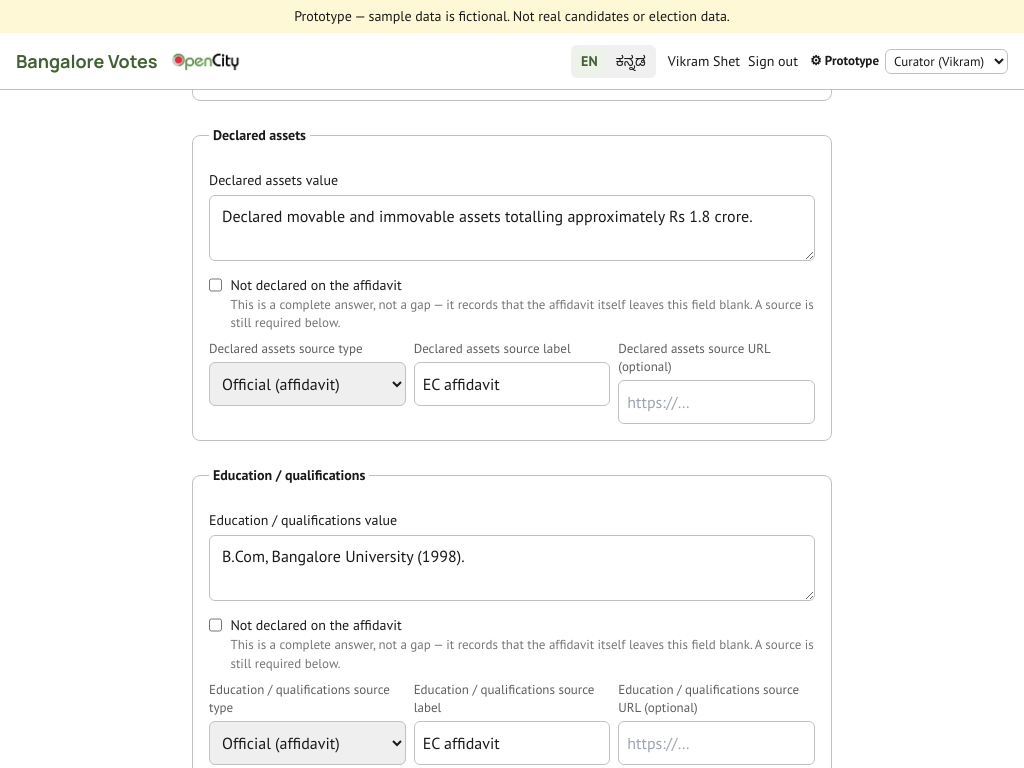
Test: save is refused if a field is cleared of its source label — every field must stay sourced
The image size is (1024, 768).
(page scrolled)
Step 1. Clear the field labelled "Declared assets source label" → (512, 384), box [414,362,610,406]
(page scrolled)
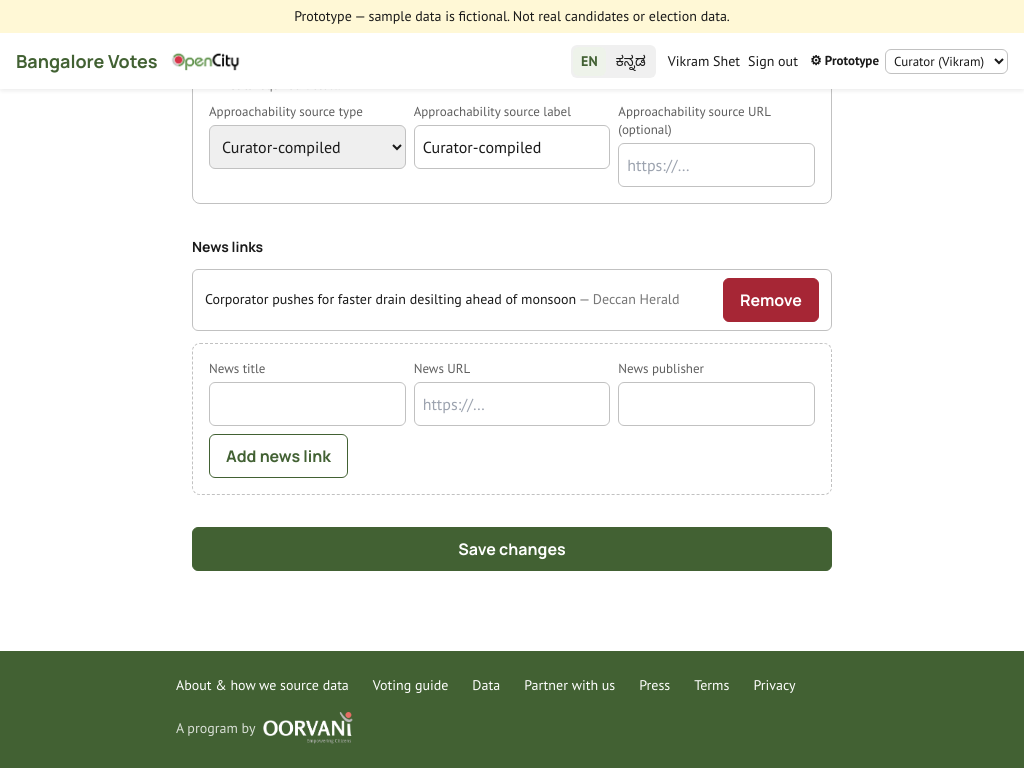
Step 2. Click the button "Save changes" → (512, 549), box [192,527,832,571]
(page scrolled)
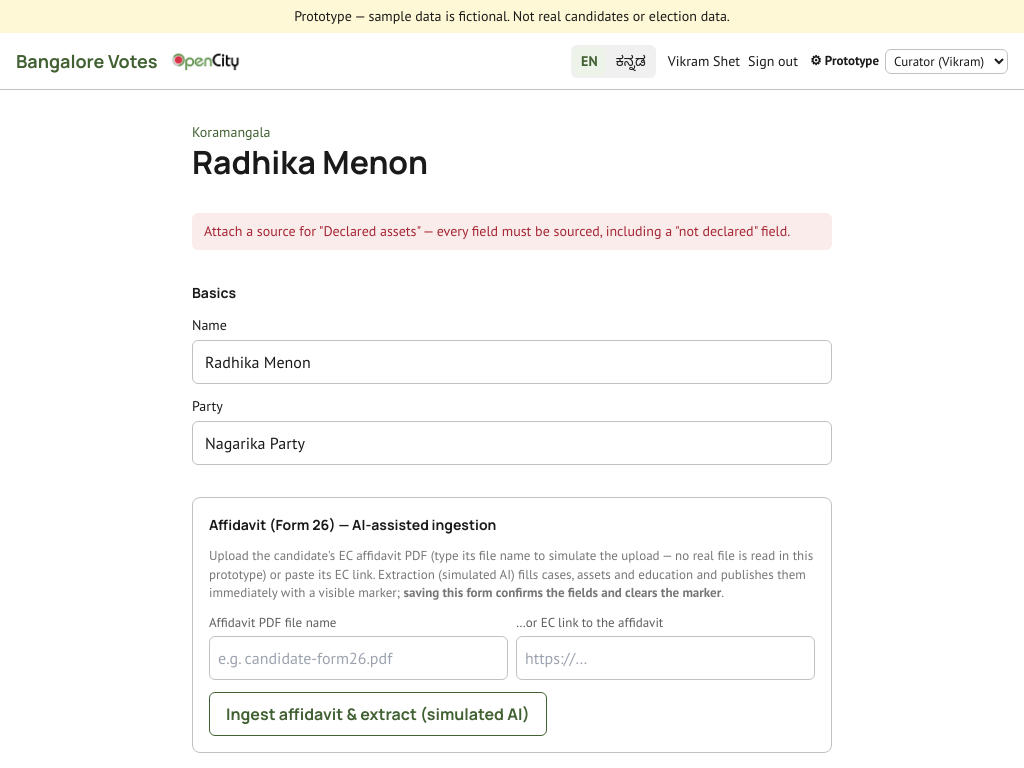
Expected: the message shows "source", [204,222,790,240]
